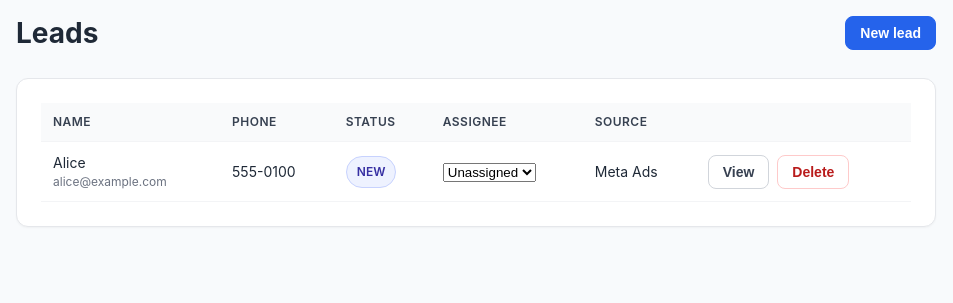
Test: <LeadsPage /> › surfaces the delete error via ErrorBanner
Expected: the text "Alice" is shown, [53, 154, 86, 171]
Click the button "Delete": x=813, y=172 [777, 154, 849, 188]
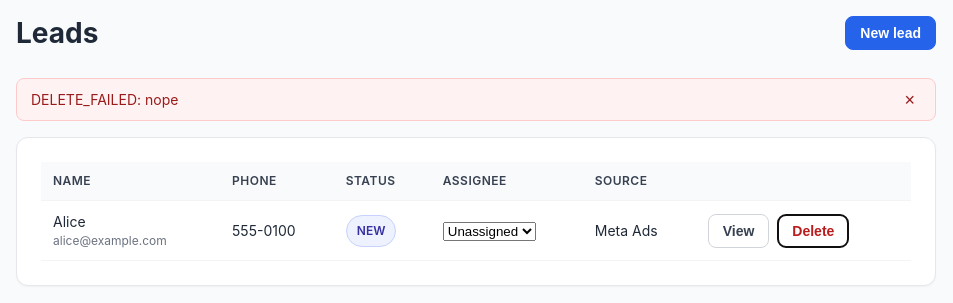
Expected: the text "Alice" is shown, [53, 213, 86, 230]
Result: the message shows "DELETE_FAILED" at [31, 91, 178, 108]
